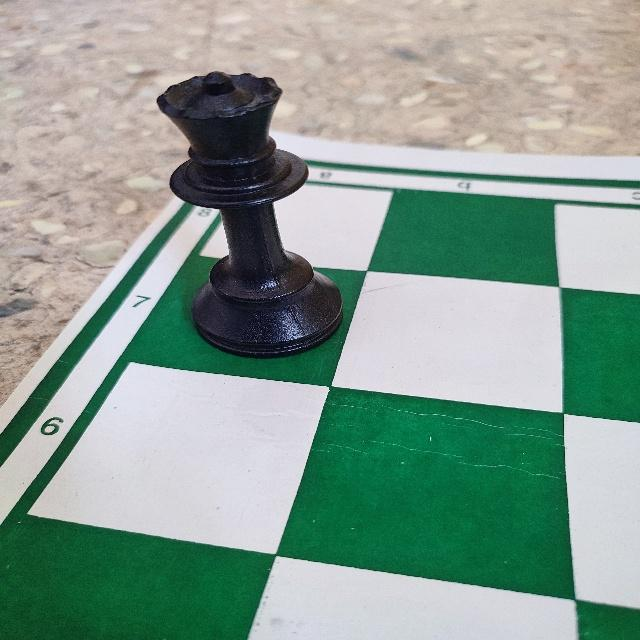Queen: (153, 68, 350, 361)
